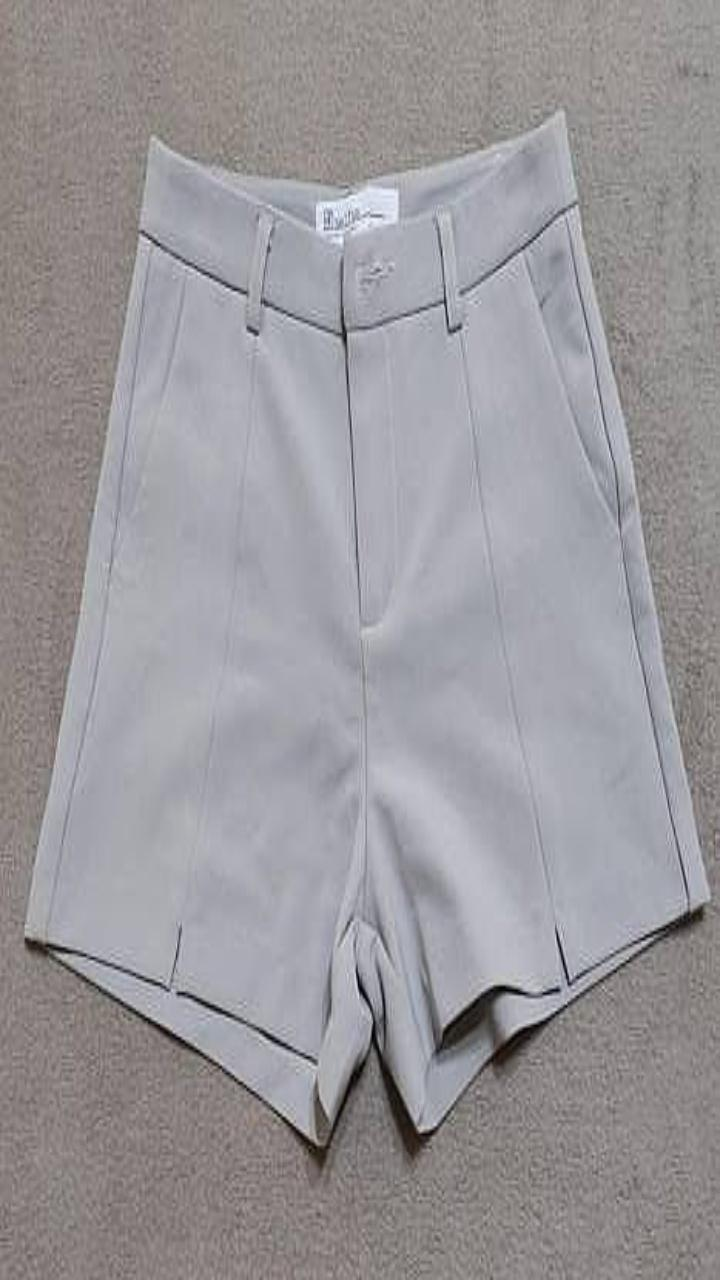Shorts: (25, 111, 709, 1144)
